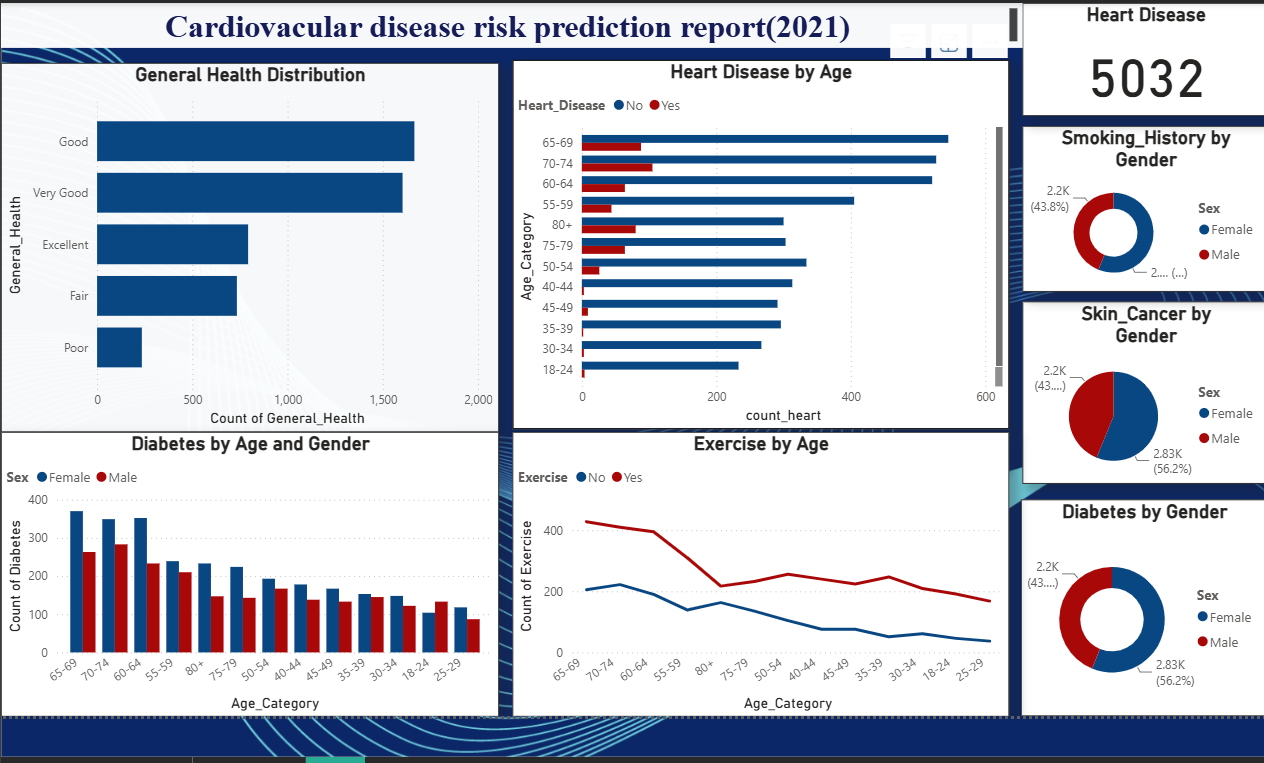

The dashboard page shown, as its layout file describes it:
{"tool":"powerbi","page":{"name":"Page 1","canvas":[1280,720],"ordinal":0},"visuals":[{"type":"clusteredBarChart","title":"General Health Distribution","fields":{"Category":["heartdata.General_Health"],"Y":["CountNonNull(heartdata.General_Health)"]},"box":[0,60,502.5,372.5],"z":0},{"type":"clusteredBarChart","title":"Heart Disease by Age ","fields":{"Y":["heartdata.count_heart"],"Category":["heartdata.Age_Category"],"Series":["heartdata.Heart_Disease"]},"box":[516.2,57.5,501.2,372.5],"z":1000},{"type":"clusteredColumnChart","title":"Diabetes by Age and Gender","fields":{"Y":["CountNonNull(heartdata.Diabetes)"],"Series":["heartdata.Sex"],"Category":["heartdata.Age_Category"]},"box":[0,432.5,502.5,287.5],"z":2000},{"type":"pieChart","title":"Skin_Cancer by Gender","fields":{"Category":["heartdata.Sex"],"Y":["CountNonNull(heartdata.Skin_Cancer)"]},"box":[1031.2,301.2,248.8,183.8],"z":3000},{"type":"donutChart","title":"Smoking_History by Gender","fields":{"Y":["CountNonNull(heartdata.Smoking_History)"],"Category":["heartdata.Sex"]},"box":[1031.2,123.8,248.8,167.5],"z":4000},{"type":"donutChart","title":"Diabetes by Gender","fields":{"Y":["CountNonNull(heartdata.Diabetes)"],"Category":["heartdata.Sex"]},"box":[1030,501.2,248.8,218.8],"z":5000},{"type":"card","title":"Heart Disease ","fields":{"Values":["heartdata.count_heart"]},"box":[1031.2,0,248.8,113.8],"z":6000},{"type":"lineChart","title":"Exercise by Age ","fields":{"Category":["heartdata.Age_Category"],"Y":["CountNonNull(heartdata.Exercise)"],"Series":["heartdata.Exercise"]},"box":[516.2,432.5,501.2,287.5],"z":7000},{"type":"textbox","box":[0,0,1031.2,45],"z":8000}]}

Visuals, with their boxes in screenshot pixels (x1, y1, x2, y2):
"General Health Distribution" clusteredBarChart: bbox(7, 68, 496, 431)
"Heart Disease by Age " clusteredBarChart: bbox(509, 66, 997, 429)
"Diabetes by Age and Gender" clusteredColumnChart: bbox(7, 431, 496, 711)
"Skin_Cancer by Gender" pieChart: bbox(1011, 303, 1253, 482)
"Smoking_History by Gender" donutChart: bbox(1011, 130, 1253, 294)
"Diabetes by Gender" donutChart: bbox(1010, 498, 1252, 711)
"Heart Disease " card: bbox(1011, 10, 1253, 121)
"Exercise by Age " lineChart: bbox(509, 431, 997, 711)
textbox: bbox(7, 10, 1011, 54)
